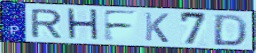7: (178, 10, 209, 47)
D: (211, 13, 249, 47)
F: (102, 9, 139, 43)
H: (65, 7, 101, 43)
K: (143, 11, 170, 44)
R: (29, 8, 64, 39)
